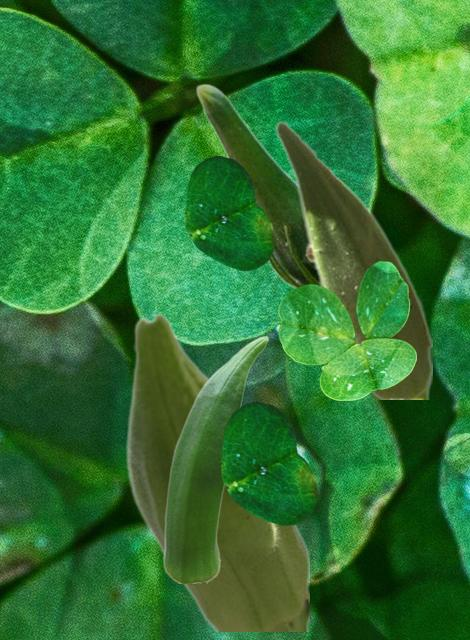okra: (125, 312, 308, 630), (274, 119, 431, 398), (162, 335, 268, 582), (195, 83, 317, 288)
